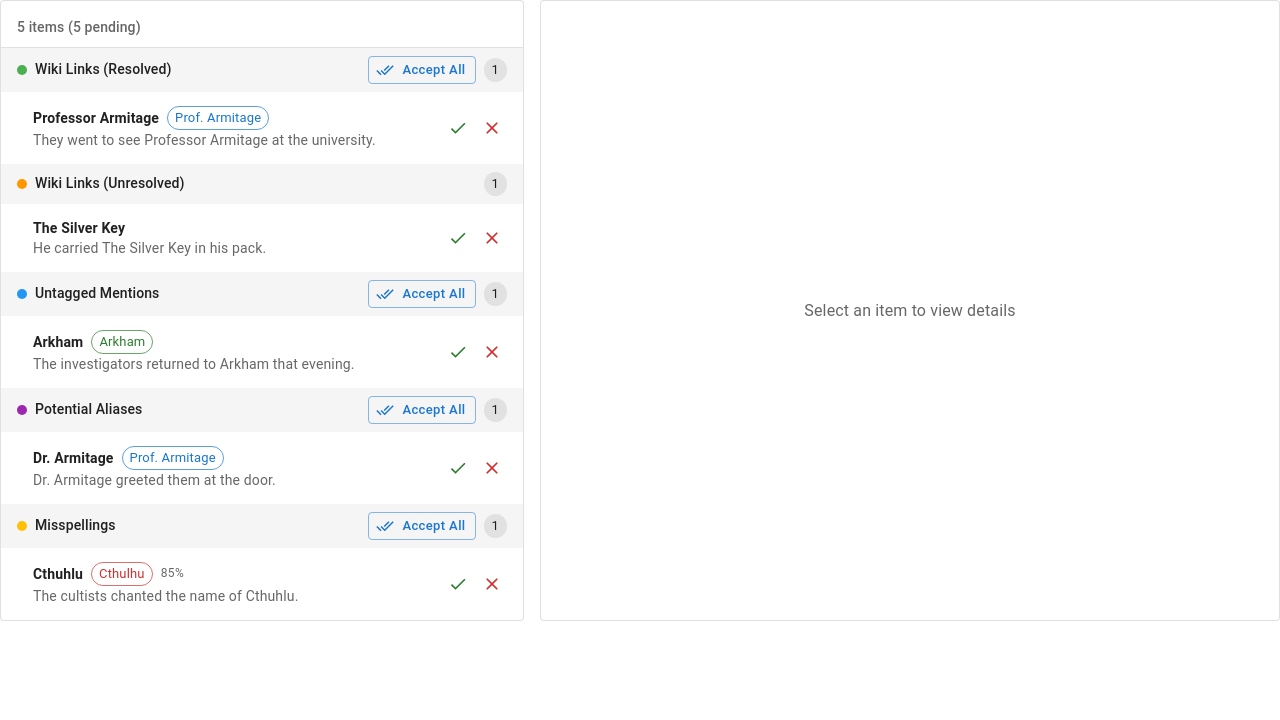
IdentifyPhasePage › shows create entity form for unresolved wiki-links
// Select the unresolved wiki-link item
Click the text "The Silver Key": x=79, y=228 [33,218,125,238]
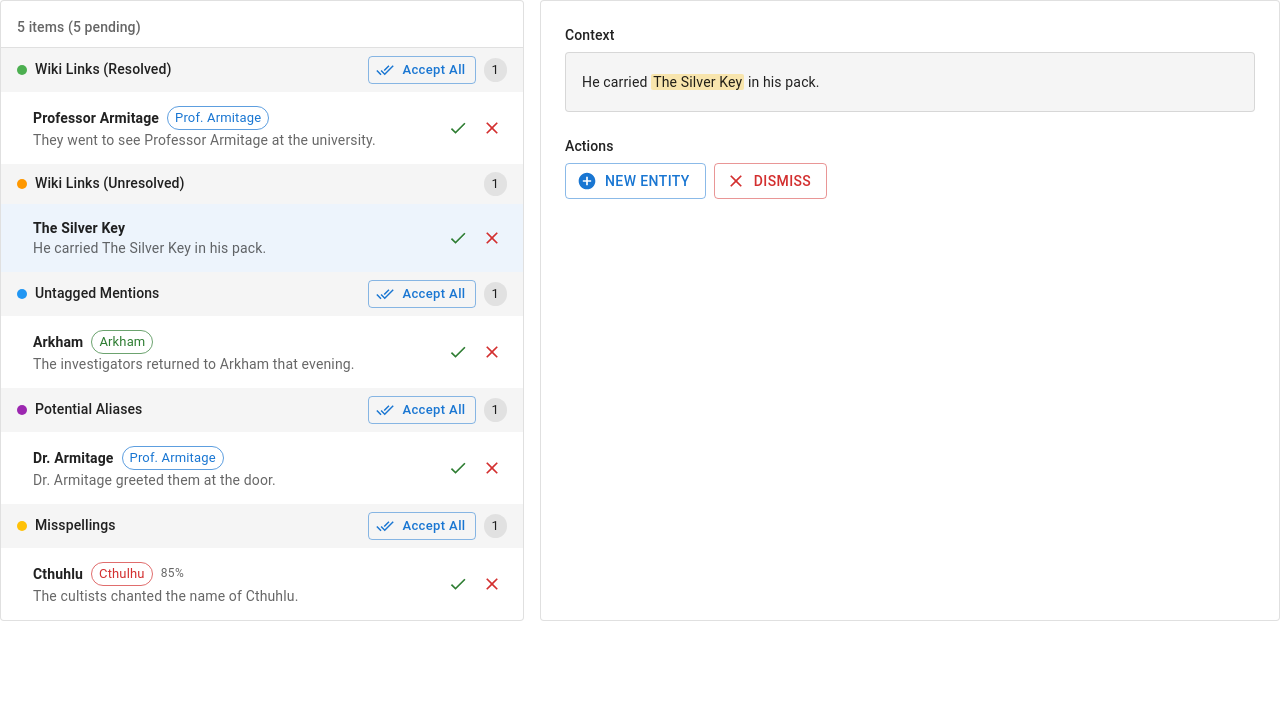
// Click New Entity button
Click the button "New Entity": x=635, y=181 [565,163,706,199]
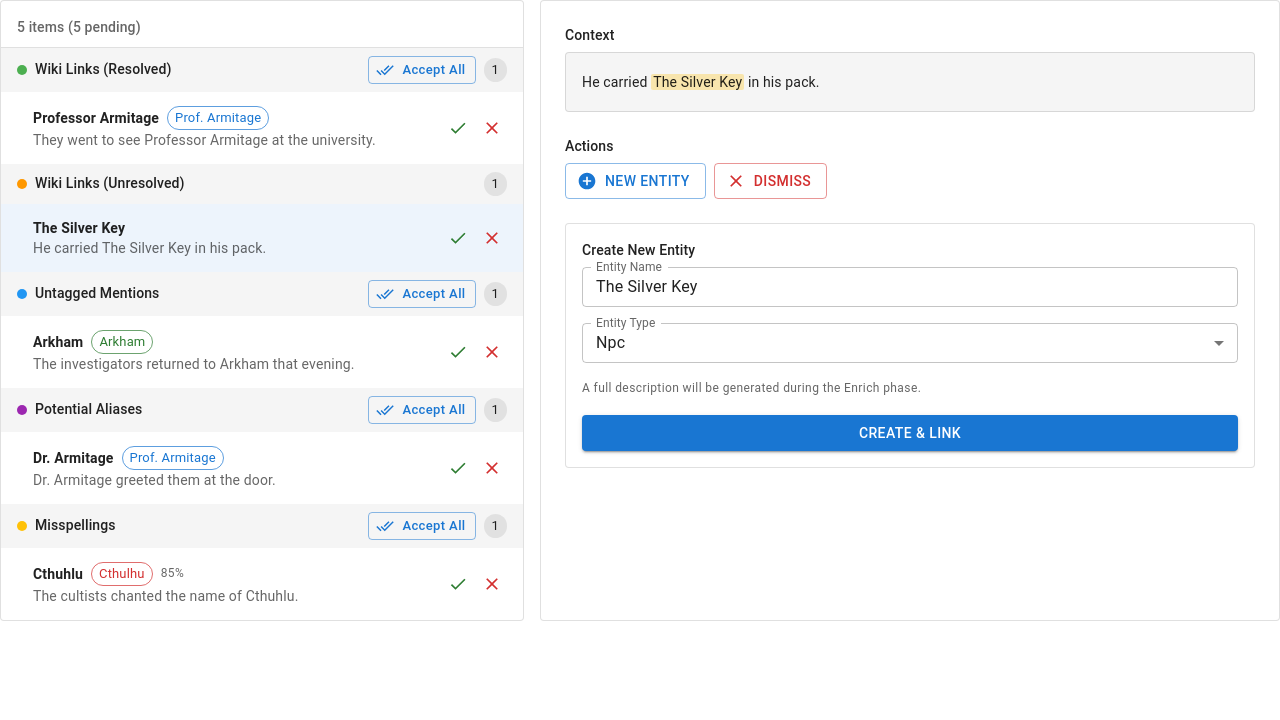
Result: the field showing "The Silver Key" is shown at [582,267,1238,307]
Result: the button "Create & Link" is shown at [582,415,1238,451]
